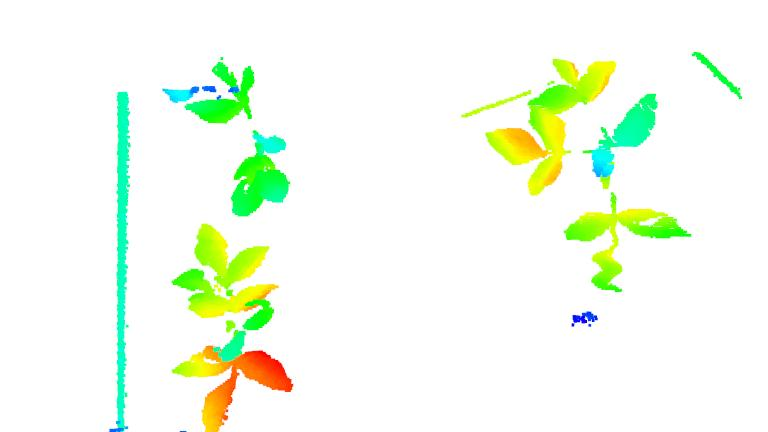mungbean: (484, 49, 693, 289), (160, 228, 302, 432), (165, 62, 296, 215)
